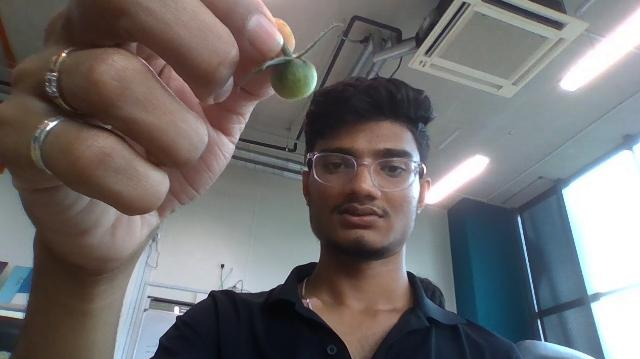Fruit Maturation: (269, 56, 317, 102)
